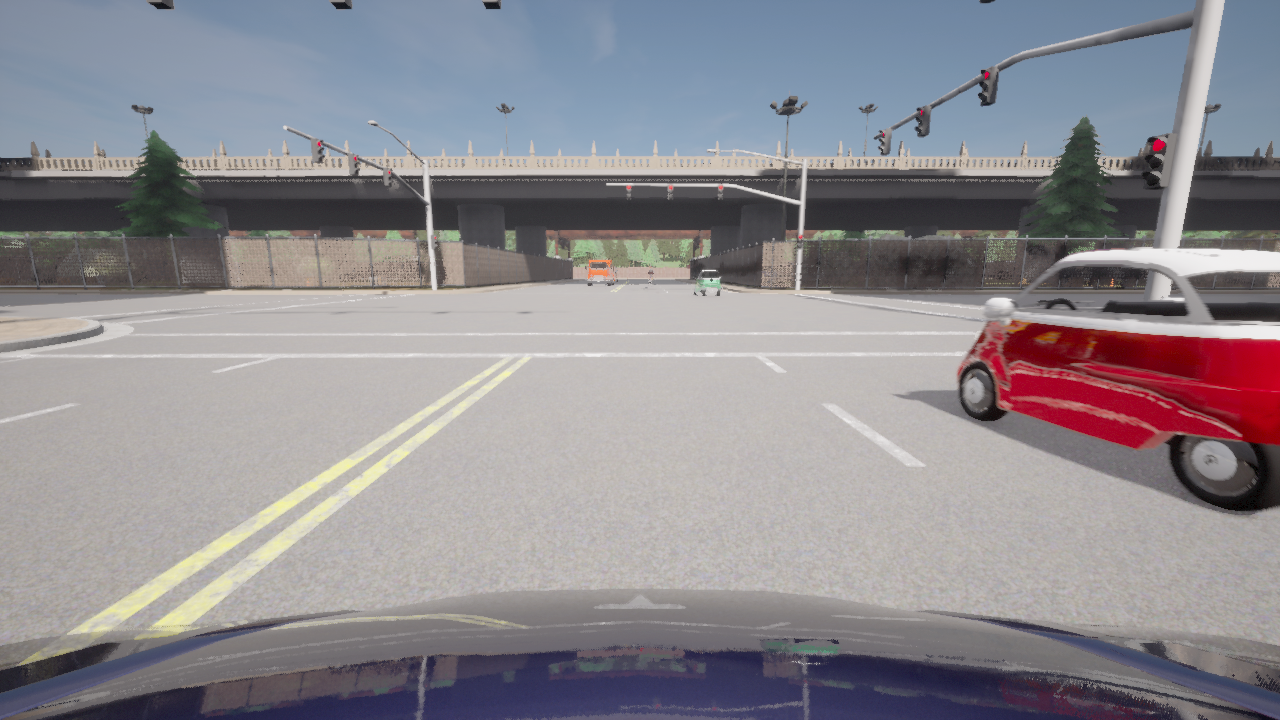cyclist: (0, 588, 1279, 719), (955, 248, 1279, 511), (584, 259, 615, 286), (693, 269, 721, 296), (614, 266, 618, 282), (649, 278, 653, 287)
